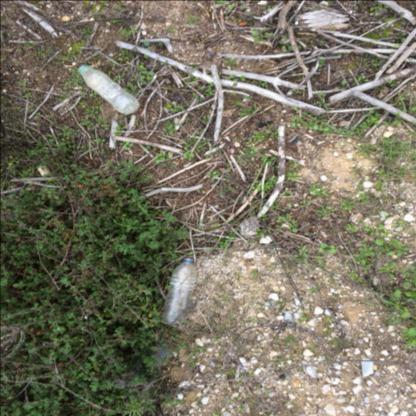Bottle cap: (78, 64, 140, 115), (162, 257, 198, 324)
